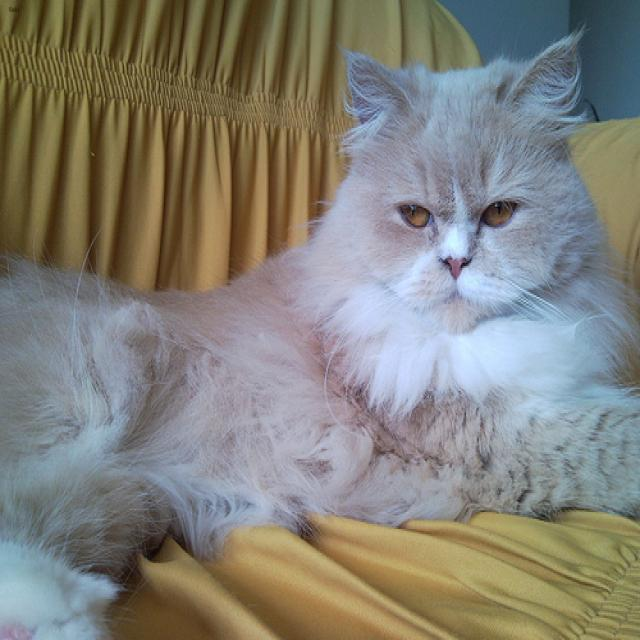cat: (347, 33, 580, 331)
